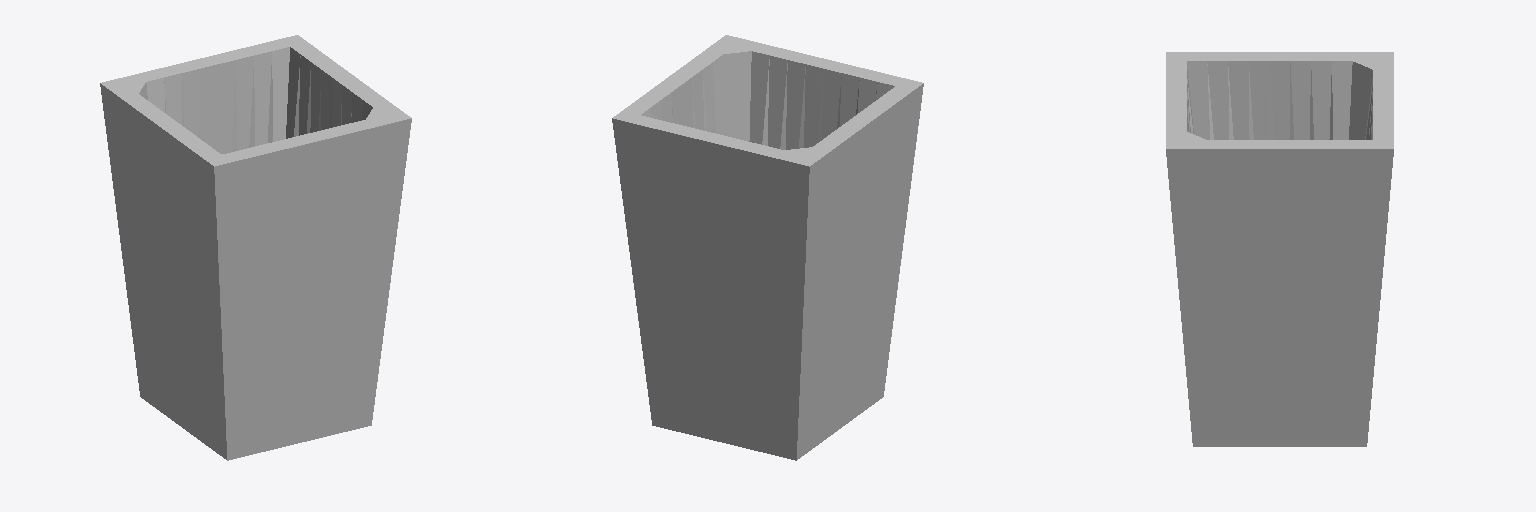
File: Bin01.obj
3 renders of one model, left to right at view 1: azimuth 30°, elevation 25°; view 2: azimuth 150°, elevation 25°; view 3: azimuth 270°, elevation 25°, orthographic.
Parts seen in each view (by area): view 1: Square_Bin_Cube; view 2: Square_Bin_Cube; view 3: Square_Bin_Cube.
Boxes of the visible parts, <box> form: Square_Bin_Cube: <box>100,35,411,460</box>; Square_Bin_Cube: <box>612,35,923,460</box>; Square_Bin_Cube: <box>1166,52,1393,446</box>.
Bounding box in the file's own units: 2 × 3 × 2.